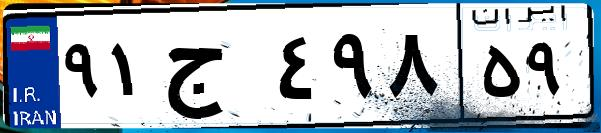1: (110, 28, 158, 98)
4: (270, 28, 330, 110)
5: (475, 38, 525, 113)
8: (385, 28, 445, 110)
9: (330, 28, 385, 110), (57, 26, 110, 100), (525, 38, 570, 115)
ج: (158, 20, 270, 120)
